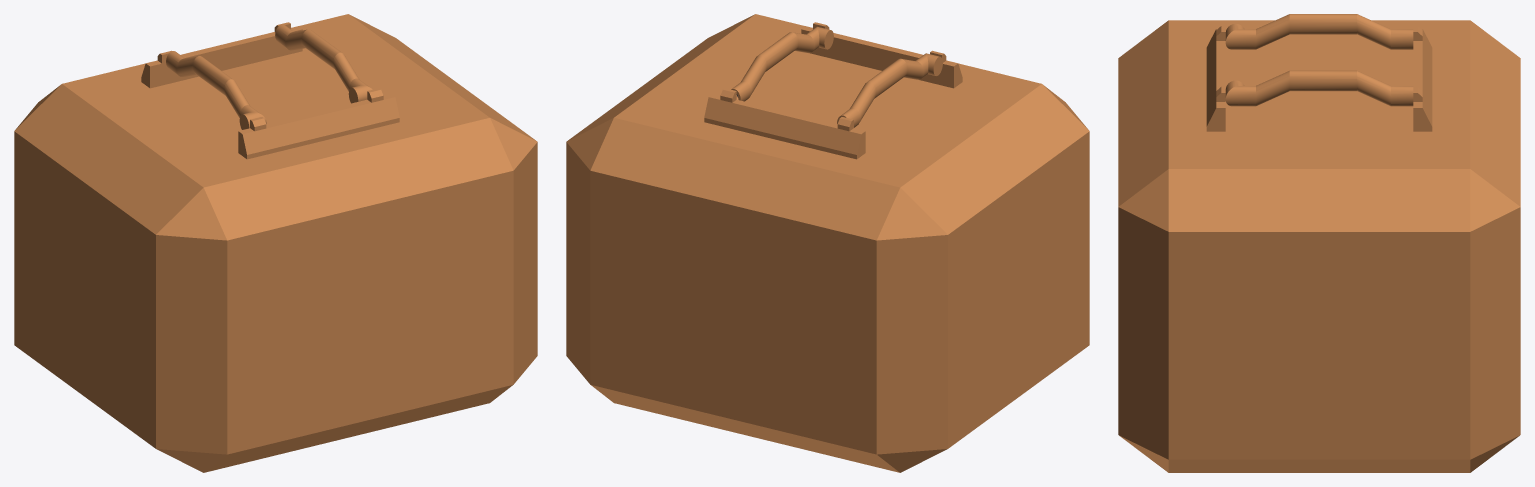
The model's file is picnicbasket.model.fbx.
The picture shows the model from 3 angles, left to right: view 1: azimuth 30°, elevation 25°; view 2: azimuth 150°, elevation 25°; view 3: azimuth 270°, elevation 25°; orthographic projection. The views are drawn at different scales.
Visible parts, largest first — view 1: block_rounded_230, detail_bumper_234, detail_bumper_233, detail_exhaust_235, detail_exhaust_236; view 2: block_rounded_230, detail_bumper_233, detail_bumper_234, detail_exhaust_235, detail_exhaust_236; view 3: block_rounded_230, detail_exhaust_235, detail_exhaust_236, detail_bumper_233, detail_bumper_234.
Boxes of the visible parts, x1,y1,x2,y2 form: block_rounded_230: (14, 14, 537, 472); detail_bumper_234: (238, 88, 399, 159); detail_bumper_233: (141, 22, 302, 88); detail_exhaust_235: (275, 24, 372, 103); detail_exhaust_236: (166, 51, 266, 129); block_rounded_230: (566, 14, 1089, 472); detail_bumper_233: (704, 88, 865, 159); detail_bumper_234: (801, 22, 962, 88); detail_exhaust_235: (731, 26, 833, 101); detail_exhaust_236: (837, 53, 942, 127); block_rounded_230: (1118, 20, 1520, 472); detail_exhaust_235: (1225, 70, 1413, 106); detail_exhaust_236: (1225, 14, 1413, 49); detail_bumper_233: (1413, 26, 1432, 131); detail_bumper_234: (1206, 26, 1225, 131).
Bounding box in the file's own units: 35 × 29.05 × 30.
